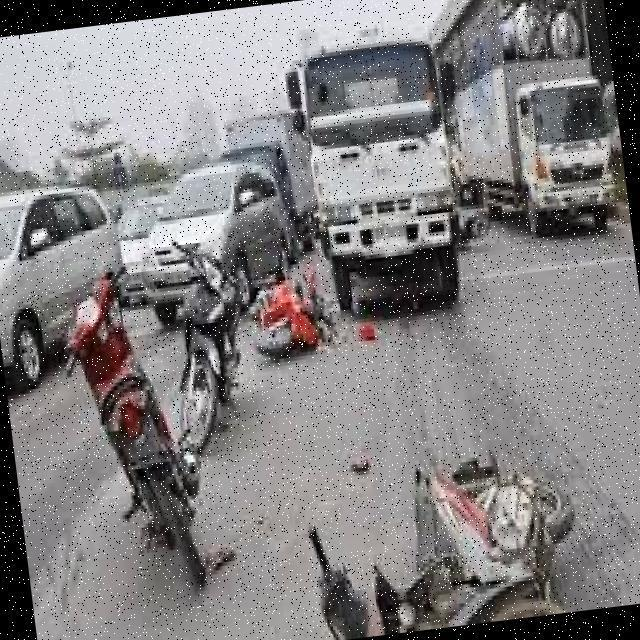accident: (284, 419, 590, 640), (241, 247, 350, 381), (446, 190, 506, 262)
